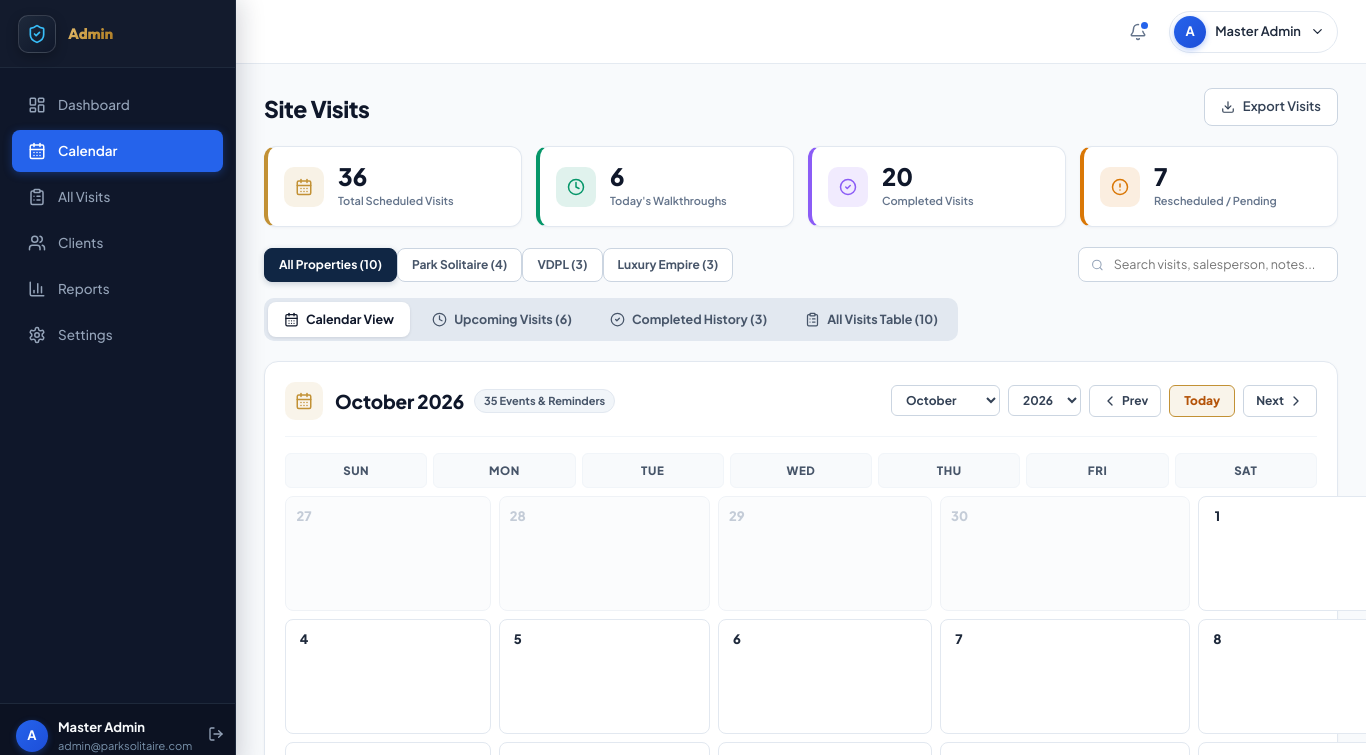
Scenario: Park Solitaire Client Visit App › Site Visit Management (/site-visits) › displays upcoming visits and allows opening reschedule modal
// Switch to Upcoming Visits tab
Step 1. Click the button "Upcoming Visits (6)" → click(502, 320), box [416, 302, 588, 337]
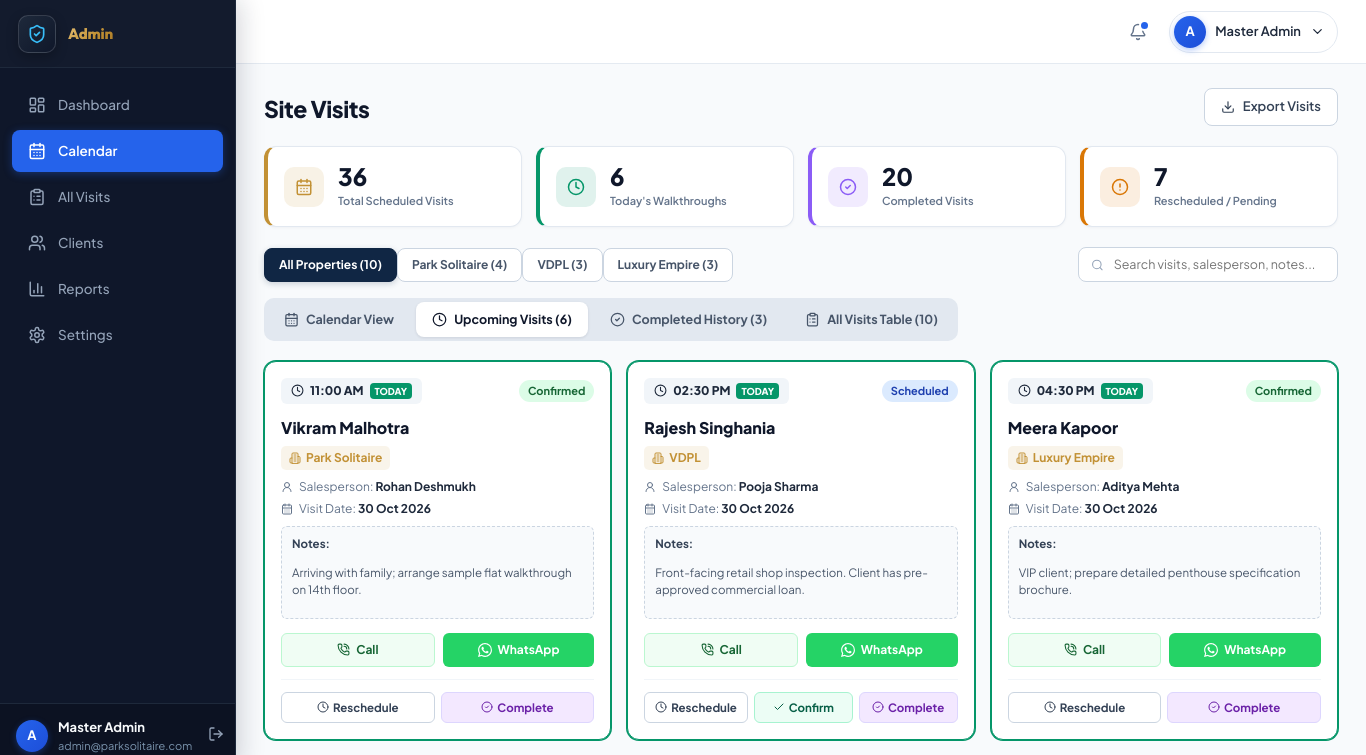
Check: the heading "Vikram Malhotra" is shown, box [281, 417, 409, 438]
Check: the button "Reschedule" below "Vikram Malhotra" is shown
Step 2. Click the button "Reschedule" below "Vikram Malhotra" → click(358, 707), box [281, 692, 435, 723]
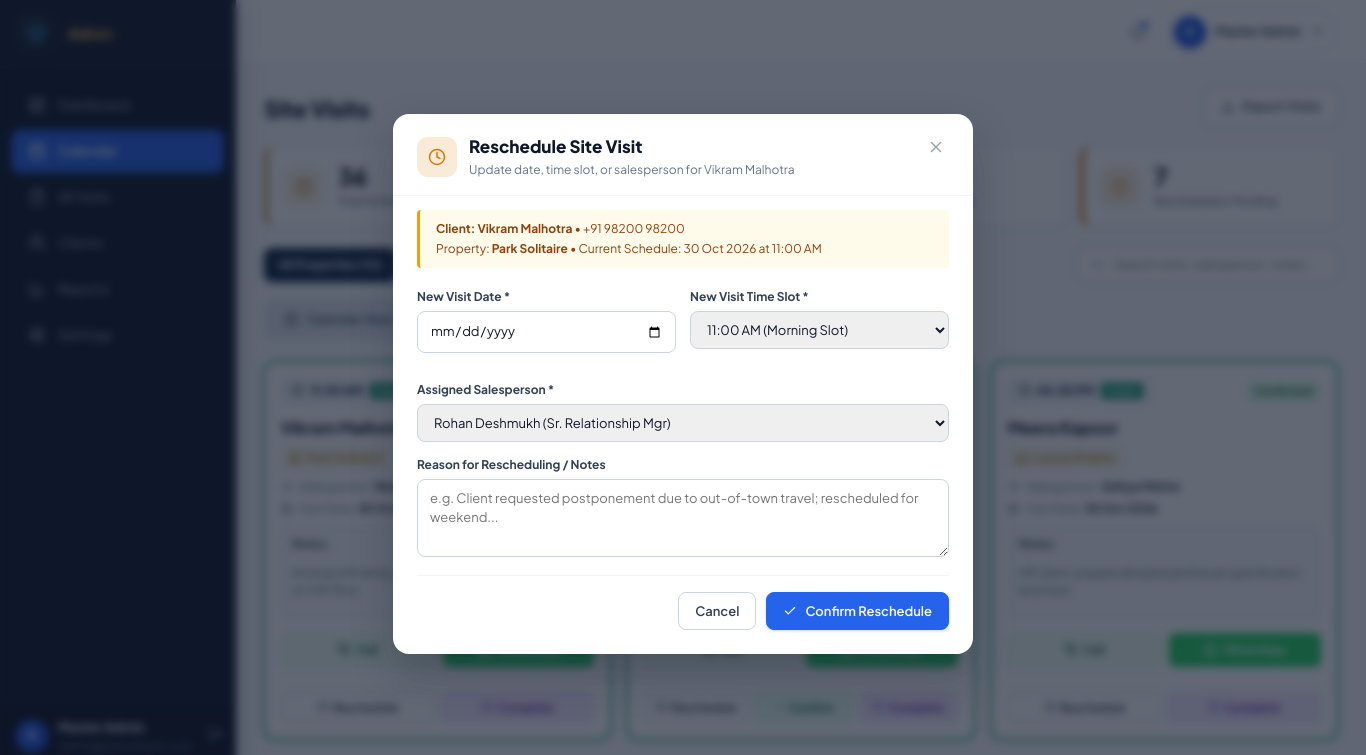
Check: the heading "Reschedule Site Visit" is shown, box [469, 135, 642, 157]
